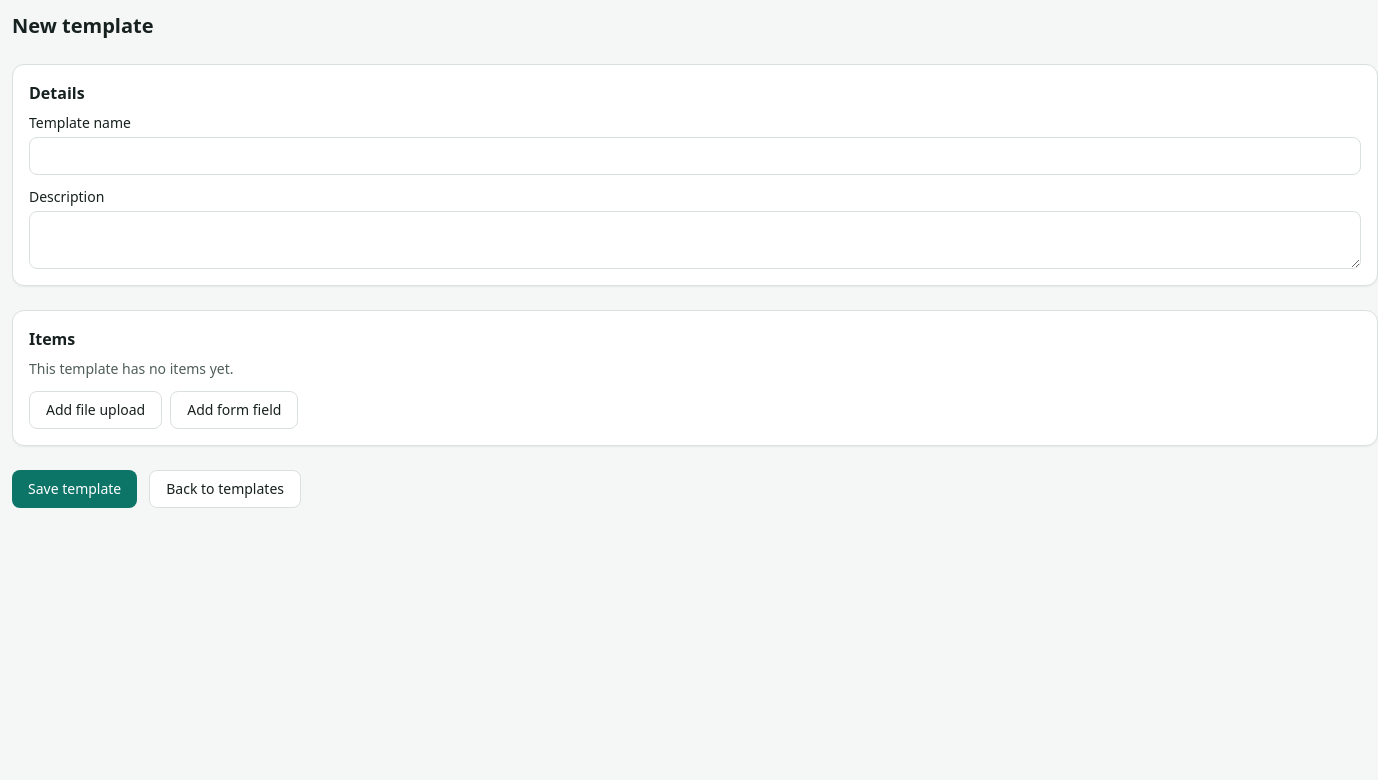
Scenario: TemplateEditorPage › shows API validation errors
This screenshot has width=1378, height=780.
Type "X" into the field labelled "Template name" at x=695, y=156, box [29,137,1361,175]
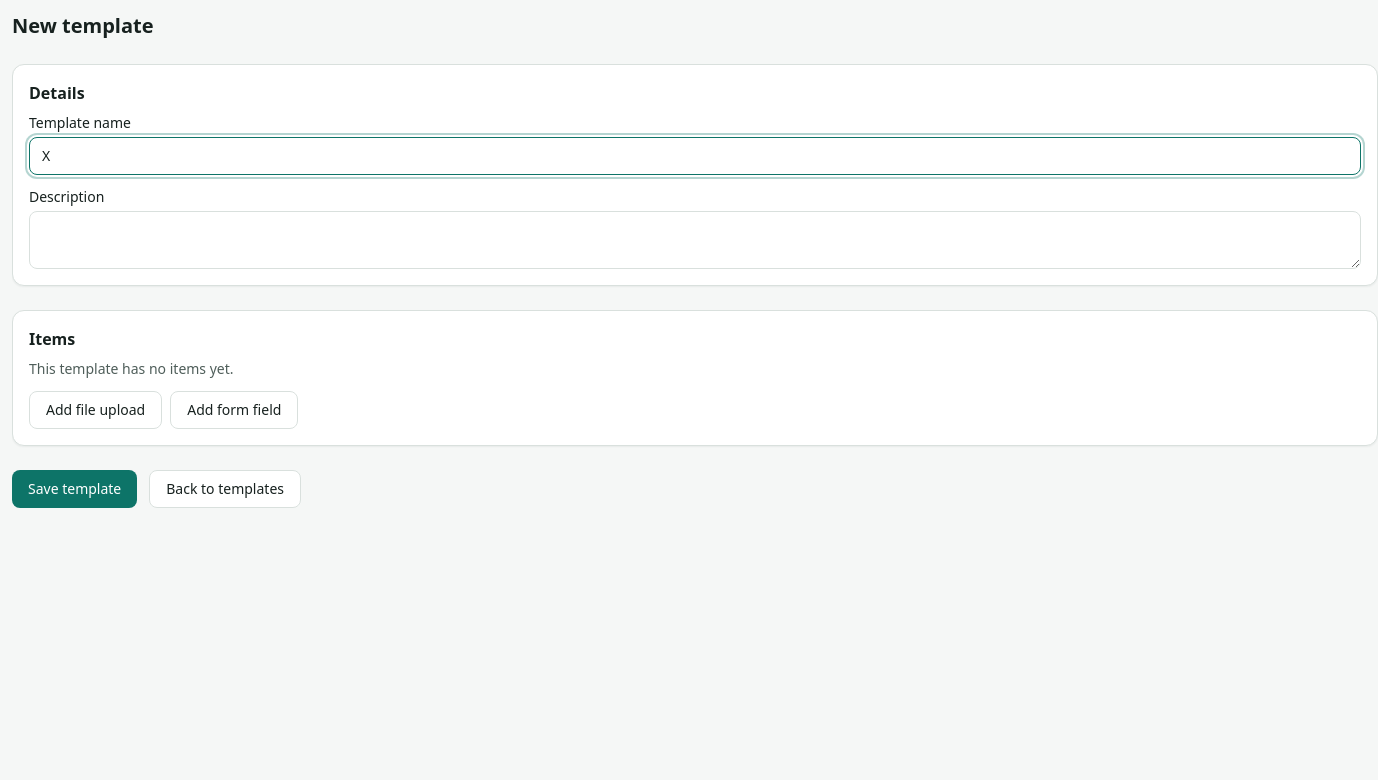
Click the button "Save template" at x=75, y=489, box [12,470,137,508]
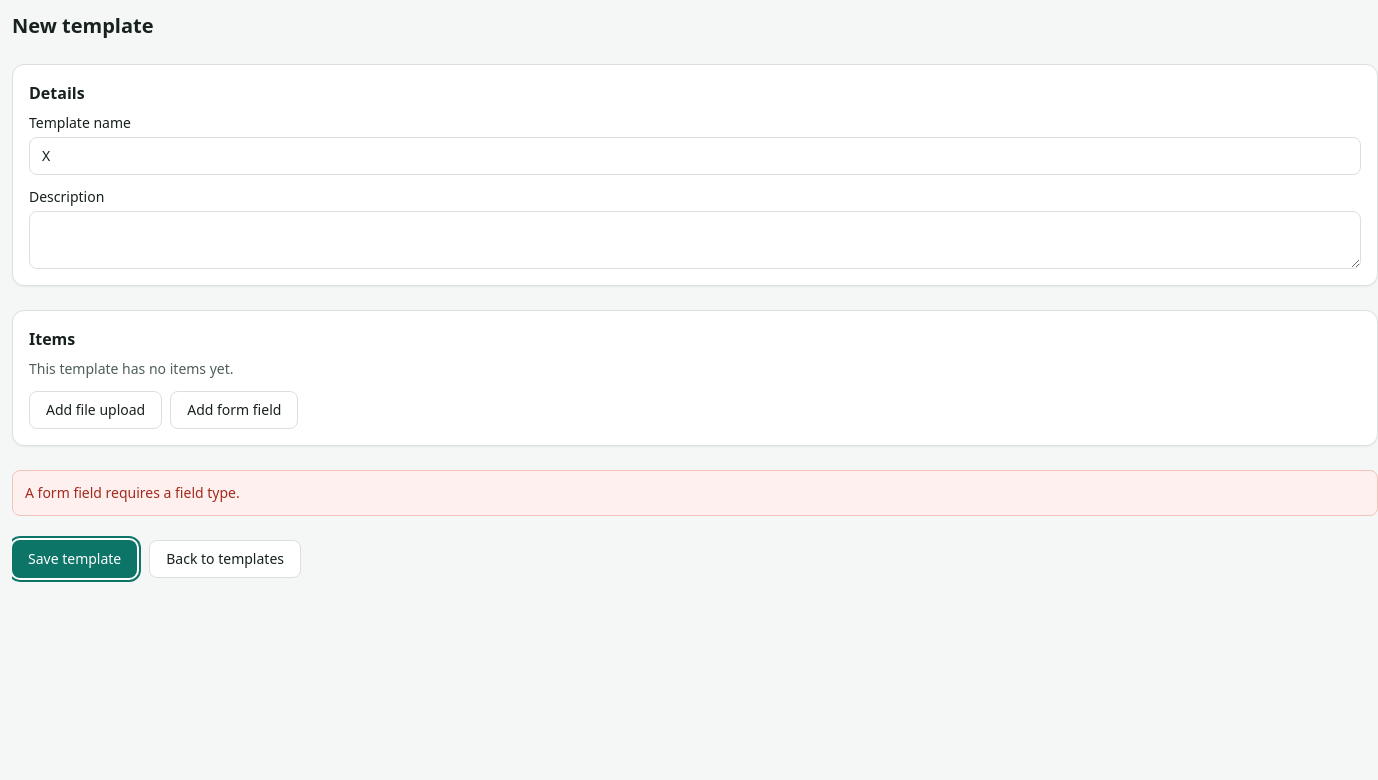
Check: the message shows "requires a field type", box [25,483,240,502]
